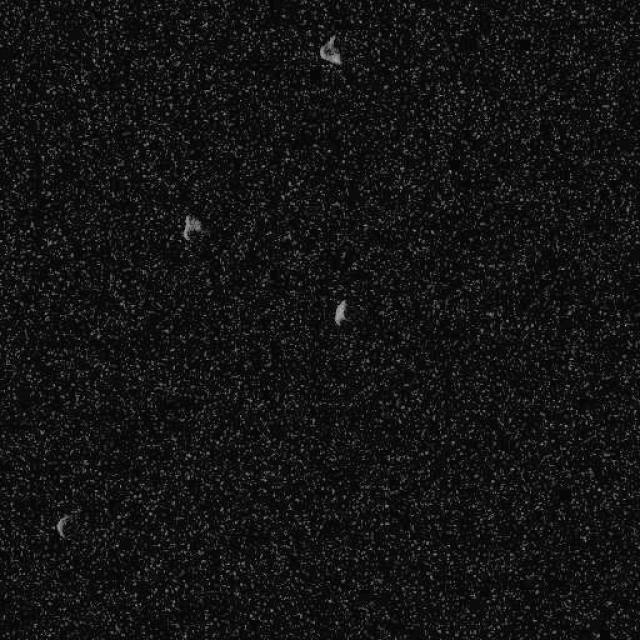D2: (318, 34, 342, 65), (182, 212, 202, 242), (55, 512, 73, 540), (332, 299, 348, 326)
